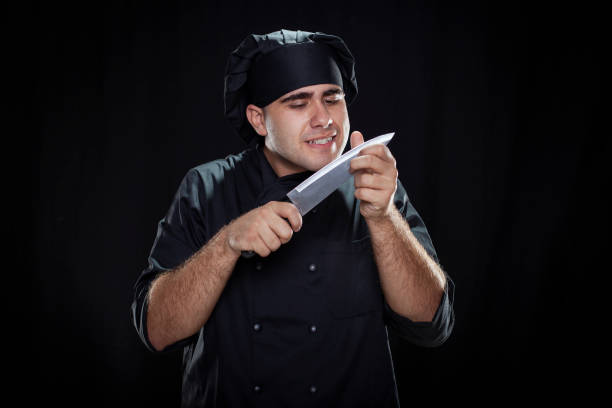knife: (240, 132, 395, 260)
